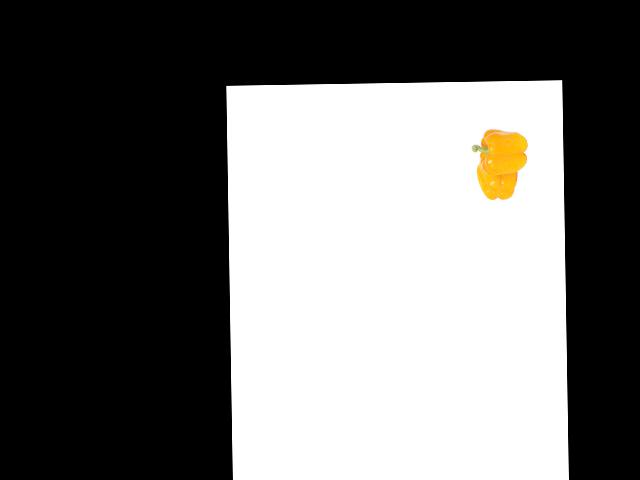bell_pepper: (475, 158, 523, 203)
